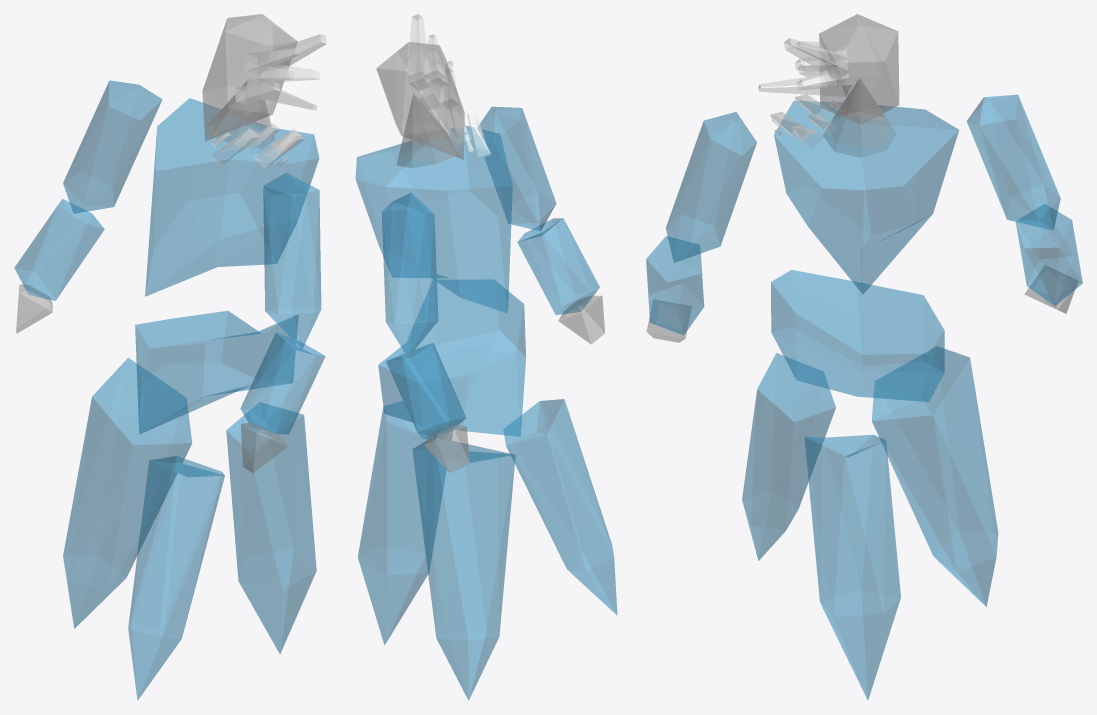
The model's file is ghostChargingLunge6.obj.
The picture shows the model from 3 angles, left to right: view 1: azimuth 30°, elevation 25°; view 2: azimuth 150°, elevation 25°; view 3: azimuth 270°, elevation 25°; orthographic projection. The views are drawn at different scales.
Visible parts, largest first — view 1: Cube.001_Cube.006, Icosphere.017, Icosphere.016, Icosphere.015, Cube_Cube.006, Icosphere.005_Icosphere.005, Icosphere.003_Icosphere.006, Icosphere.007_Icosphere.005, Icosphere.006_Icosphere.005, Icosphere.008_Icosphere.005, Cone_Cone.006, Cube.002_Cube.006 (+8 smaller); view 2: Cube.001_Cube.006, Icosphere.017, Cube_Cube.006, Icosphere.016, Icosphere.015, Icosphere.007_Icosphere.005, Icosphere.003_Icosphere.006, Icosphere.005_Icosphere.005, Icosphere.006_Icosphere.005, Icosphere.008_Icosphere.005, Cone_Cone.006, Cube.002_Cube.006 (+6 smaller); view 3: Cube.001_Cube.006, Icosphere.017, Cube_Cube.006, Icosphere.016, Icosphere.015, Icosphere.005_Icosphere.005, Icosphere.007_Icosphere.005, Icosphere.003_Icosphere.006, Icosphere.008_Icosphere.005, Icosphere.006_Icosphere.005, Cone_Cone.006, Cube.002_Cube.006 (+4 smaller).
Boxes of the visible parts, left/top/right/bottom form: Cube.001_Cube.006: left=145, top=98, right=319, bottom=296; Icosphere.017: left=63, top=358, right=192, bottom=628; Icosphere.016: left=226, top=402, right=316, bottom=653; Icosphere.015: left=128, top=456, right=224, bottom=700; Cube_Cube.006: left=135, top=310, right=298, bottom=434; Icosphere.005_Icosphere.005: left=263, top=173, right=321, bottom=348; Icosphere.003_Icosphere.006: left=202, top=14, right=297, bottom=141; Icosphere.007_Icosphere.005: left=63, top=80, right=162, bottom=213; Icosphere.006_Icosphere.005: left=240, top=332, right=325, bottom=434; Icosphere.008_Icosphere.005: left=14, top=199, right=104, bottom=300; Cone_Cone.006: left=207, top=81, right=274, bottom=148; Cube.002_Cube.006: left=241, top=423, right=287, bottom=473; Cube.001_Cube.006: left=355, top=125, right=512, bottom=313; Icosphere.017: left=412, top=439, right=515, bottom=700; Cube_Cube.006: left=378, top=279, right=526, bottom=436; Icosphere.016: left=358, top=401, right=452, bottom=644; Icosphere.015: left=503, top=399, right=617, bottom=614; Icosphere.007_Icosphere.005: left=381, top=192, right=438, bottom=357; Icosphere.003_Icosphere.006: left=376, top=42, right=464, bottom=159; Icosphere.005_Icosphere.005: left=478, top=106, right=556, bottom=231; Icosphere.006_Icosphere.005: left=517, top=218, right=599, bottom=314; Icosphere.008_Icosphere.005: left=386, top=343, right=466, bottom=439; Cone_Cone.006: left=397, top=94, right=457, bottom=167; Cube.002_Cube.006: left=558, top=295, right=604, bottom=344; Cube.001_Cube.006: left=774, top=100, right=958, bottom=294; Icosphere.017: left=871, top=346, right=998, bottom=606; Cube_Cube.006: left=771, top=270, right=944, bottom=401; Icosphere.016: left=804, top=434, right=900, bottom=699; Icosphere.015: left=742, top=353, right=835, bottom=560; Icosphere.005_Icosphere.005: left=666, top=112, right=756, bottom=262; Icosphere.007_Icosphere.005: left=966, top=94, right=1060, bottom=230; Icosphere.003_Icosphere.006: left=819, top=14, right=899, bottom=124; Icosphere.008_Icosphere.005: left=1015, top=204, right=1082, bottom=305; Icosphere.006_Icosphere.005: left=646, top=236, right=704, bottom=335; Cone_Cone.006: left=823, top=78, right=896, bottom=157; Cube.002_Cube.006: left=646, top=299, right=691, bottom=342.
Size of the model in its own units: 17.91 by 48.14 by 28.66.
